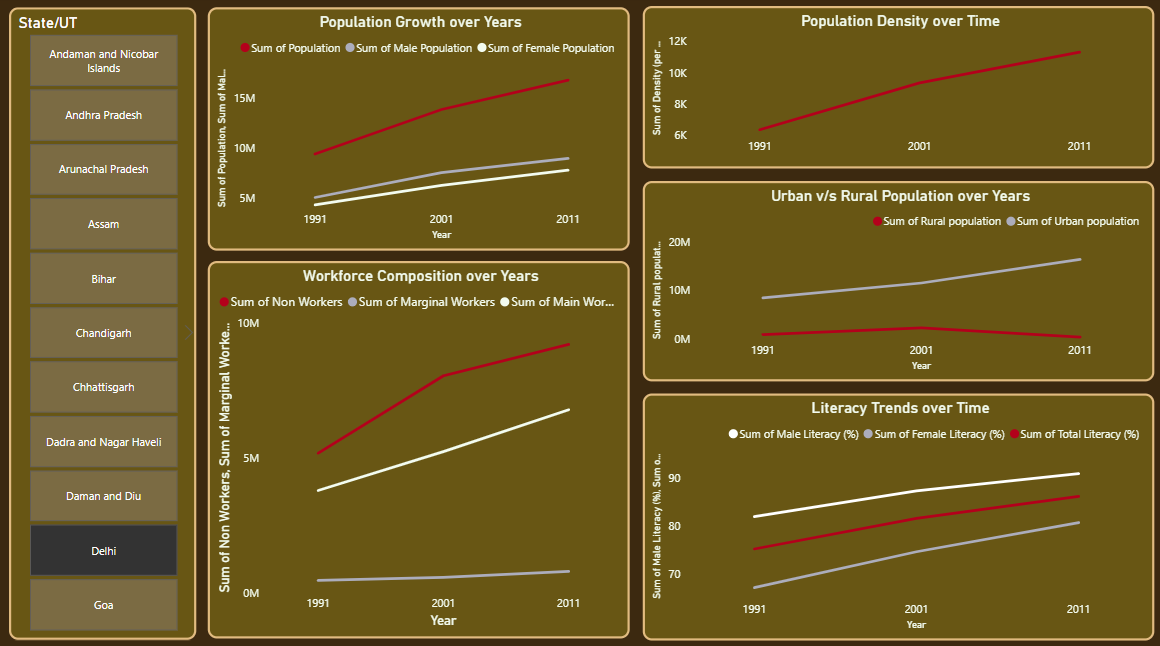

What the dashboard file says about the page in this screenshot:
{"tool":"powerbi","page":{"name":"Year Comparision","canvas":[1280,720],"ordinal":0},"visuals":[{"type":"slicer","fields":{"Values":["CensusData.State / Union Territory"]},"box":[11,12.3,205.8,694.3],"z":0},{"type":"lineChart","title":"Population Growth over Years","fields":{"Y":["Sum(Sheet1 (2).Population)","Sum(Sheet1 (2).Male Population)","Sum(Sheet1 (2).Female Population)"],"Category":["Sheet1 (2).Year"]},"box":[228.6,12.9,462.9,267.1],"z":1000},{"type":"lineChart","title":"Workforce Composition over Years","fields":{"Category":["Sheet1 (2).Year"],"Y":["Sum(Sheet1 (2).Non Workers)","Sum(Sheet1 (2).Marginal Workers)","Sum(Sheet1 (2).Main Workers)"]},"box":[228.6,291.4,462.9,414.3],"z":2000},{"type":"lineChart","title":"Population Density over Time","fields":{"Category":["Sheet1 (2).Year"],"Y":["Sum(Sheet1 (2).Density (per km²))"]},"box":[707.1,11.4,561.4,178.6],"z":3000},{"type":"lineChart","title":"Urban v/s Rural Population over Years","fields":{"Category":["Sheet1 (2).Year"],"Y":["Sum(Sheet1 (2).Rural population)","Sum(Sheet1 (2).Urban population)"]},"box":[707.1,202.9,561.4,220],"z":4000},{"type":"lineChart","title":"Literacy Trends over Time","fields":{"Category":["Sheet1 (2).Year"],"Y":["Sum(Sheet1 (2).Male Literacy (%))","Sum(Sheet1 (2).Female Literacy (%))","Sum(Sheet1 (2).Total Literacy (%))"]},"box":[707.1,435.7,561.4,271.4],"z":5000}]}

Visuals, with their boxes in screenshot pixels (x1, y1, x2, y2), scaled from the page's 1280x720 canvas onto the 1160x646 screenshot:
slicer - CensusData.State / Union Territory: [left=10, top=11, right=196, bottom=634]
"Population Growth over Years" lineChart: [left=207, top=12, right=627, bottom=251]
"Workforce Composition over Years" lineChart: [left=207, top=261, right=627, bottom=633]
"Population Density over Time" lineChart: [left=641, top=10, right=1150, bottom=170]
"Urban v/s Rural Population over Years" lineChart: [left=641, top=182, right=1150, bottom=379]
"Literacy Trends over Time" lineChart: [left=641, top=391, right=1150, bottom=634]
